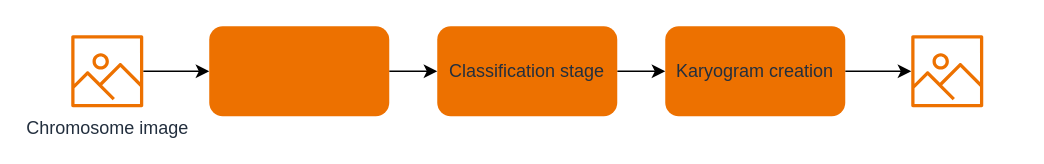
Image size: 1044x164. Some labels were removed from this diagram. The shapes that lost their labels are listed below. From the top down, each one's centre as x and y in pixels, then its label:
At point (298, 71): "Segmentation stage".
At point (946, 70): "Ready karyogram".
